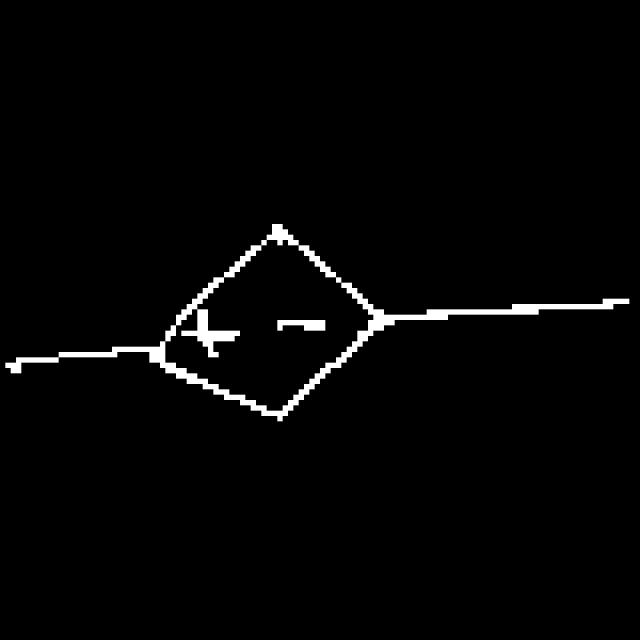dependant_voltage: (129, 218, 394, 416)
